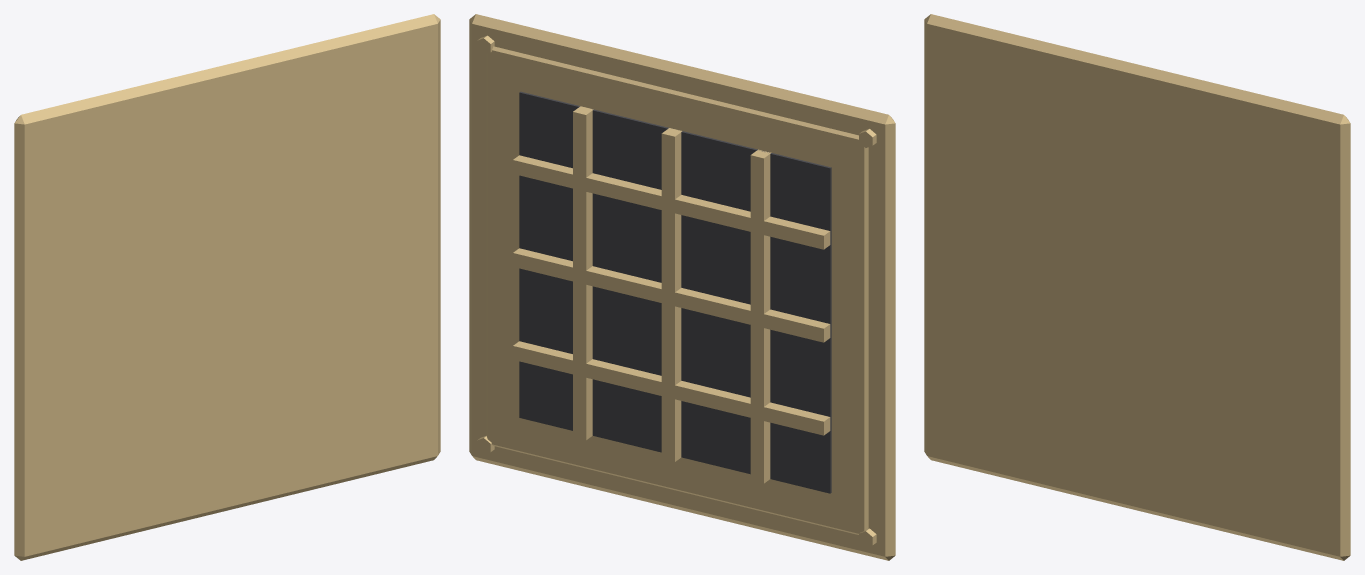
File: Fill_Grille.fbx
The picture shows the model from 3 angles, left to right: view 1: azimuth 30°, elevation 25°; view 2: azimuth 150°, elevation 25°; view 3: azimuth 330°, elevation 25°; orthographic projection.
Parts seen in each view (by area): view 1: Fill_Grille; view 2: Fill_Grille; view 3: Fill_Grille.
Part boxes in pixels (left/top/right/bottom): Fill_Grille: left=14, top=14, right=440, bottom=560; Fill_Grille: left=469, top=14, right=895, bottom=560; Fill_Grille: left=924, top=14, right=1350, bottom=560.
Size of the model in its own units: 0.96 by 0.96 by 0.07.
